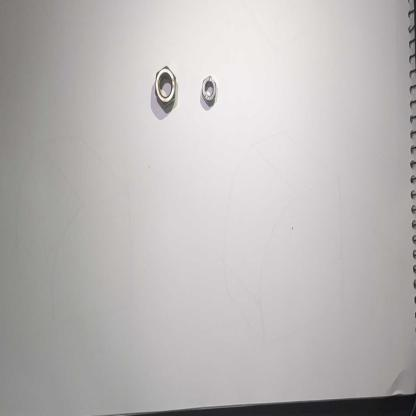NUTS: (154, 60, 179, 118), (197, 69, 220, 114)
